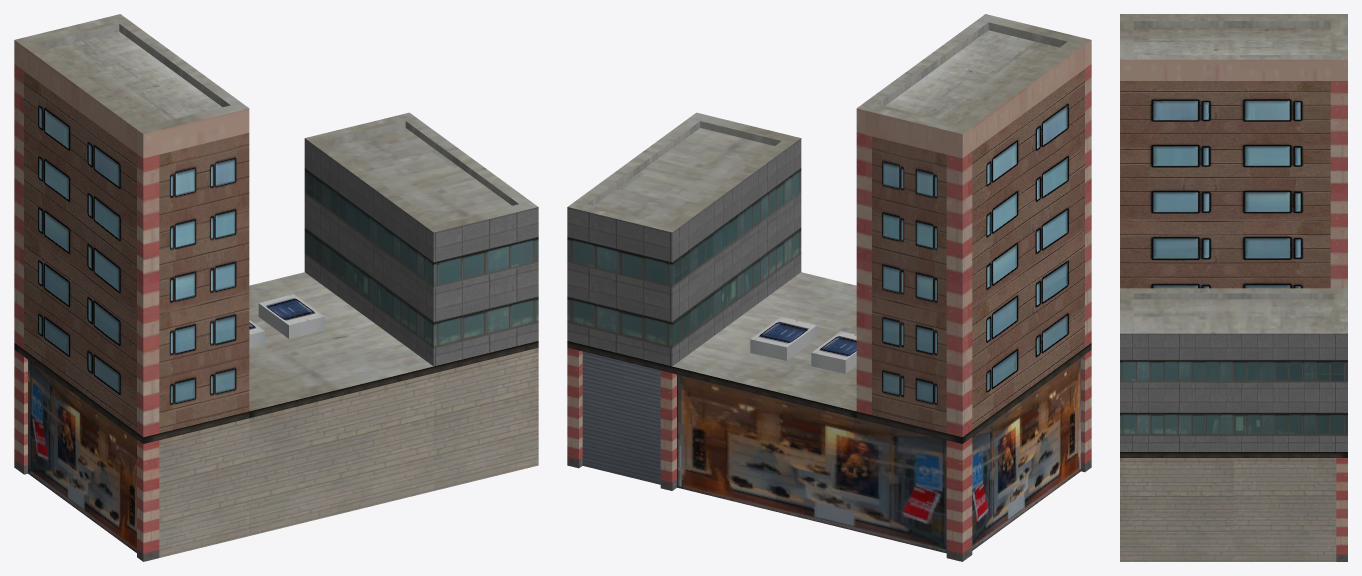
The model's file is Pizza_Delivery house33.fbx.
3 renders of one model, left to right at view 1: azimuth 30°, elevation 25°; view 2: azimuth 150°, elevation 25°; view 3: azimuth 270°, elevation 25°, orthographic. The views are drawn at different scales.
Visible parts, largest first — view 1: Pizza_Delivery:Pizza_Delivery:house33; view 2: Pizza_Delivery:Pizza_Delivery:house33; view 3: Pizza_Delivery:Pizza_Delivery:house33.
Part boxes in pixels (box(x1,y1,x2,y2)): Pizza_Delivery:Pizza_Delivery:house33: box(14, 14, 538, 561); Pizza_Delivery:Pizza_Delivery:house33: box(567, 14, 1091, 561); Pizza_Delivery:Pizza_Delivery:house33: box(1120, 14, 1347, 561).
Bounding box in the file's own units: 15.92 × 16.47 × 9.
